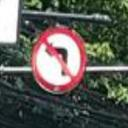NoVirarEsquerda: (29, 24, 88, 96)
